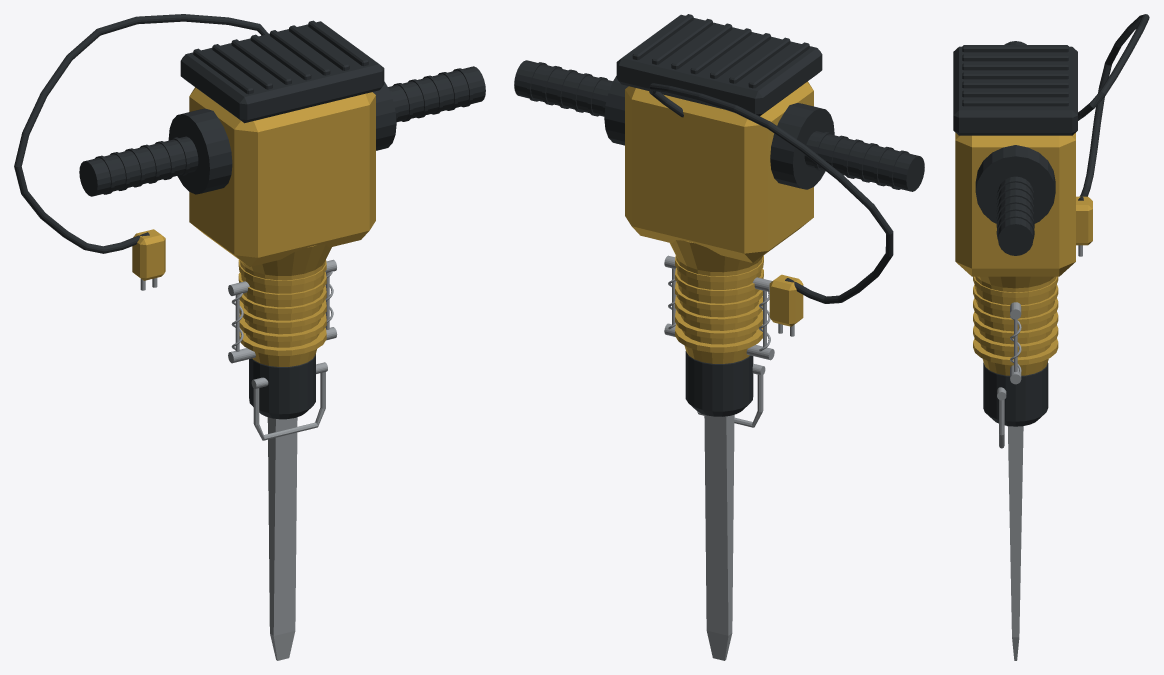
File: full.glb
3 views of the same model, side by side, from view 1: azimuth 30°, elevation 25°; view 2: azimuth 150°, elevation 25°; view 3: azimuth 270°, elevation 25° (orthographic). The views are drawn at different scales.
Visible parts, largest first — view 1: Angular upper motor housing, Broad ribbed upper cap, Long static chisel, Tapered lower barrel, Generic complete cable loop, Opposed rubber grip -1, Side oval grip mount -1, Dark chuck, Opposed rubber grip 1, Generic attached plug, Side oval grip mount 1, U shaped chisel retainer (+4 smaller); view 2: Angular upper motor housing, Broad ribbed upper cap, Long static chisel, Tapered lower barrel, Generic complete cable loop, Dark chuck, Opposed rubber grip -1, Side oval grip mount -1, Opposed rubber grip 1, Generic attached plug, Side oval grip mount 1, Barrel raised collar 0 (+12 smaller); view 3: Angular upper motor housing, Broad ribbed upper cap, Tapered lower barrel, Side oval grip mount 1, Dark chuck, Long static chisel, Generic complete cable loop, Opposed rubber grip 1, Cap raised rib 1, Cap raised rib 2, Cap raised rib 3, Cap raised rib 4 (+10 smaller).
Part boxes in pixels (x1,y1,x2,y2): Angular upper motor housing: (189,87,375,266); Broad ribbed upper cap: (180,21,384,123); Long static chisel: (267,417,297,660); Tapered lower barrel: (239,244,331,366); Generic complete cable loop: (14,14,268,253); Opposed rubber grip -1: (79,136,198,196); Side oval grip mount -1: (168,108,232,194); Dark chuck: (249,354,315,419); Opposed rubber grip 1: (388,66,485,121); Generic attached plug: (132,229,165,280); Side oval grip mount 1: (372,81,396,150); U shaped chisel retainer: (253,372,325,440); Angular upper motor housing: (625,81,813,262); Broad ribbed upper cap: (616,14,822,116); Long static chisel: (704,414,734,660); Tapered lower barrel: (670,240,762,363); Generic complete cable loop: (649,83,893,303); Dark chuck: (685,351,753,416); Opposed rubber grip -1: (804,131,924,191); Side oval grip mount -1: (770,103,834,189); Opposed rubber grip 1: (514,60,612,116); Generic attached plug: (769,274,803,326); Side oval grip mount 1: (604,76,628,145); Barrel raised collar 0: (675,324,762,352); Angular upper motor housing: (955,132,1075,276); Broad ribbed upper cap: (953,46,1077,135); Tapered lower barrel: (975,276,1056,375); Side oval grip mount 1: (975,145,1055,223); Dark chuck: (983,362,1048,426); Long static chisel: (1007,426,1023,660); Generic complete cable loop: (1078,14,1149,200); Opposed rubber grip 1: (998,176,1033,255); Cap raised rib 1: (962,54,1068,61); Cap raised rib 2: (962,63,1068,70); Cap raised rib 3: (962,72,1068,79); Cap raised rib 4: (962,81,1068,88).
Size of the model in its own units: 0.4969 by 0.705 by 0.211.
